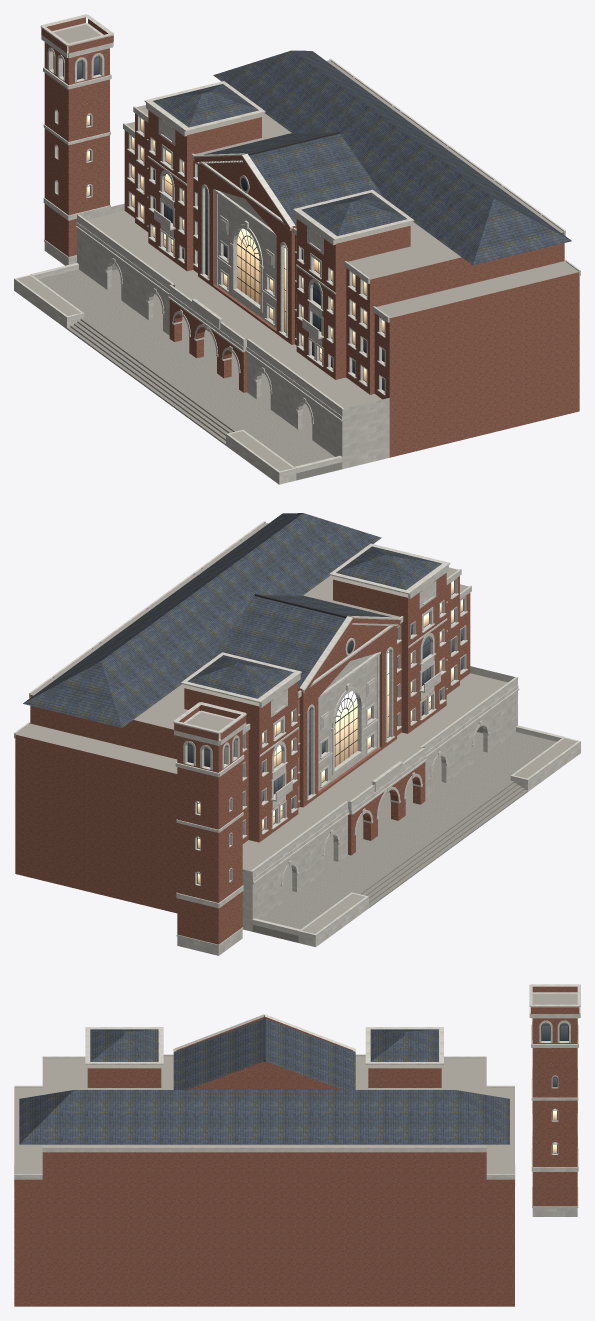
File: campus_library.glb
3 renders of one model, top to bottom at view 1: azimuth 30°, elevation 25°; view 2: azimuth 150°, elevation 25°; view 3: azimuth 270°, elevation 25°, orthographic. The views are drawn at different scales.
Parts seen in each view (by area): view 1: lib_wall, lib_roof, lib_trim, lib_base, lib_flat, lib_trimw, lib_white, lib_col, lib_glass, lib_pier, lib_frame; view 2: lib_wall, lib_roof, lib_trim, lib_base, lib_flat, lib_trimw, lib_col, lib_white, lib_glass, lib_pier, lib_frame; view 3: lib_wall, lib_roof, lib_flat, lib_trim, lib_trimw, lib_glass.
Part boxes in pixels (left/top/right/bottom): lib_wall: left=41, top=17, right=579, bottom=457; lib_roof: left=153, top=50, right=571, bottom=265; lib_trim: left=14, top=14, right=580, bottom=484; lib_base: left=38, top=263, right=342, bottom=480; lib_flat: left=17, top=24, right=578, bottom=471; lib_trimw: left=47, top=47, right=385, bottom=395; lib_white: left=44, top=191, right=389, bottom=469; lib_col: left=77, top=228, right=342, bottom=456; lib_glass: left=53, top=54, right=384, bottom=390; lib_pier: left=169, top=299, right=246, bottom=392; lib_frame: left=63, top=55, right=384, bottom=390; lib_wall: left=15, top=573, right=470, bottom=944; lib_roof: left=23, top=513, right=441, bottom=727; lib_trim: left=14, top=521, right=580, bottom=947; lib_base: left=252, top=726, right=556, bottom=942; lib_flat: left=16, top=522, right=577, bottom=933; lib_trimw: left=183, top=578, right=467, bottom=885; lib_col: left=252, top=691, right=517, bottom=919; lib_white: left=177, top=653, right=515, bottom=955; lib_glass: left=188, top=581, right=462, bottom=883; lib_pier: left=348, top=762, right=425, bottom=855; lib_frame: left=187, top=581, right=463, bottom=884; lib_wall: left=14, top=986, right=579, bottom=1306; lib_roof: left=19, top=1019, right=509, bottom=1144; lib_flat: left=14, top=993, right=577, bottom=1173; lib_trim: left=14, top=984, right=580, bottom=1207; lib_trimw: left=532, top=1018, right=577, bottom=1154; lib_glass: left=542, top=1022, right=568, bottom=1153.
Size of the model in its own units: 39.44 by 28.05 by 67.94.
Materials: 13 (8 with a texture image).
